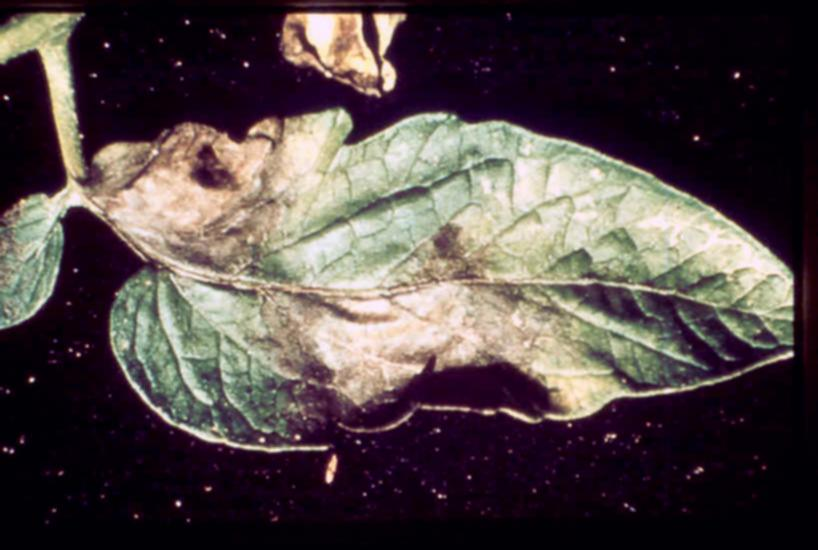Tomato leaf late blight: (87, 91, 798, 471)
